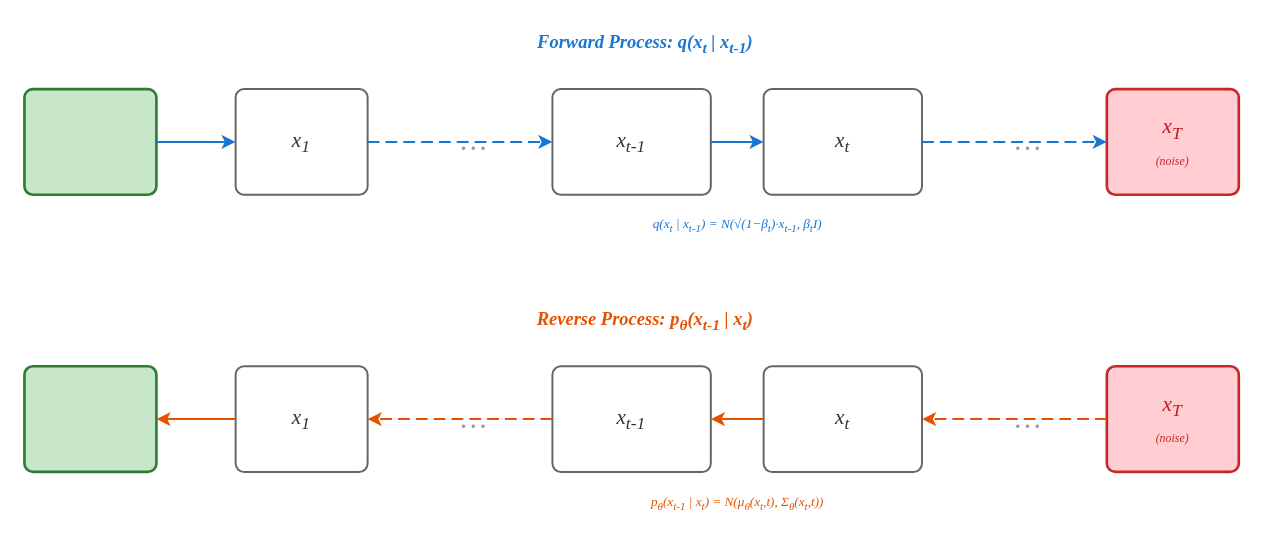
Some shapes in this 1262 by 536 pixel diagram are drawn without their labels. The box of each missing label's shape, as (x1, y1, x2, y2) in pixels:
x 0 (data): (22, 87, 157, 195)
x 0 (sample): (22, 364, 157, 473)
